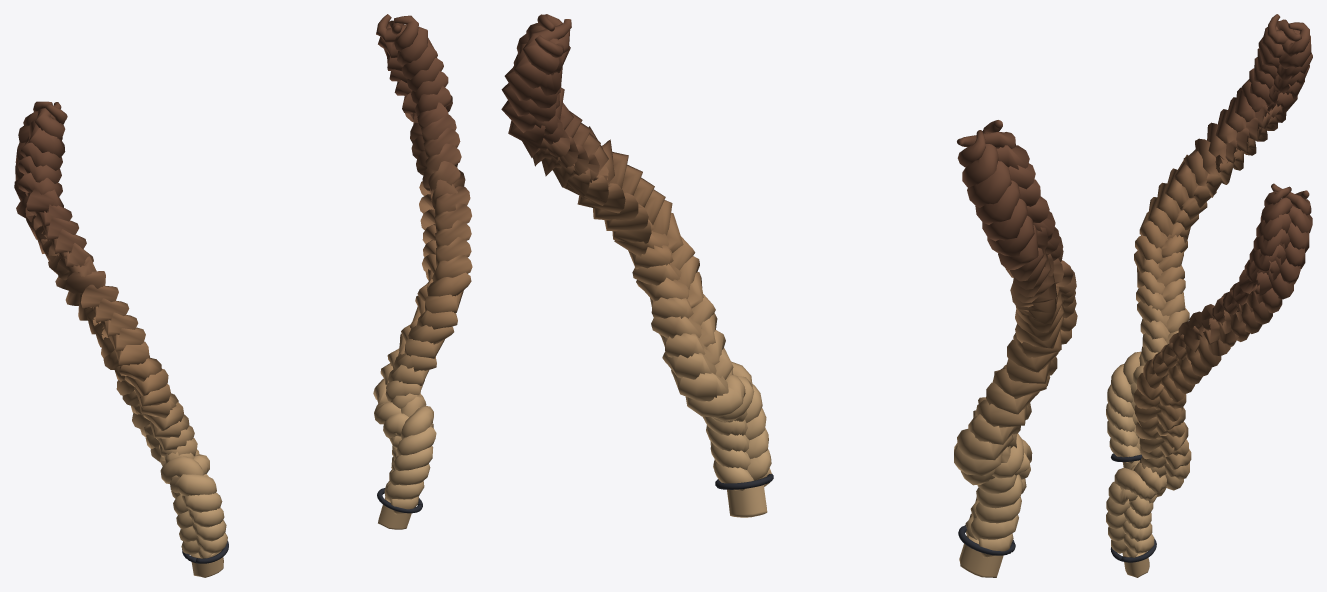
The model's file is Ombre-aa1585a6a48d253-hair.glb.
3 renders of one model, left to right at view 1: azimuth 30°, elevation 25°; view 2: azimuth 150°, elevation 25°; view 3: azimuth 270°, elevation 25°, orthographic. The views are drawn at different scales.
Parts seen in each view (by area): view 1: 226 hairLengths / Hair / chestnut226, 226 hairLengths / Hair / ties226; view 2: 226 hairLengths / Hair / chestnut226, 226 hairLengths / Hair / ties226; view 3: 226 hairLengths / Hair / chestnut226, 226 hairLengths / Hair / ties226.
Boxes of the visible parts, x1,y1,x2,y2 form: 226 hairLengths / Hair / chestnut226: (14, 14, 472, 577); 226 hairLengths / Hair / ties226: (182, 488, 422, 563); 226 hairLengths / Hair / chestnut226: (501, 14, 1077, 577); 226 hairLengths / Hair / ties226: (715, 474, 1015, 555); 226 hairLengths / Hair / chestnut226: (1106, 14, 1312, 577); 226 hairLengths / Hair / ties226: (1110, 453, 1156, 562).
Bounding box in the file's own units: 1.09 × 1.05 × 0.4628.
2 materials, 1 textured.
